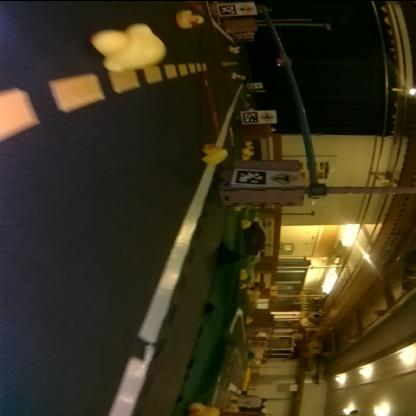Duckie: (92, 22, 166, 70), (204, 141, 230, 164), (176, 9, 204, 27), (189, 400, 221, 415), (234, 204, 246, 210), (242, 268, 249, 278), (242, 219, 251, 226), (240, 282, 247, 288), (270, 126, 278, 130), (233, 71, 239, 76), (230, 44, 235, 50)
Intersection sign: (270, 171, 298, 183), (262, 110, 276, 121)
QR code: (236, 168, 268, 182), (244, 110, 258, 122), (221, 3, 237, 13)
Signal sign: (239, 4, 254, 12)
